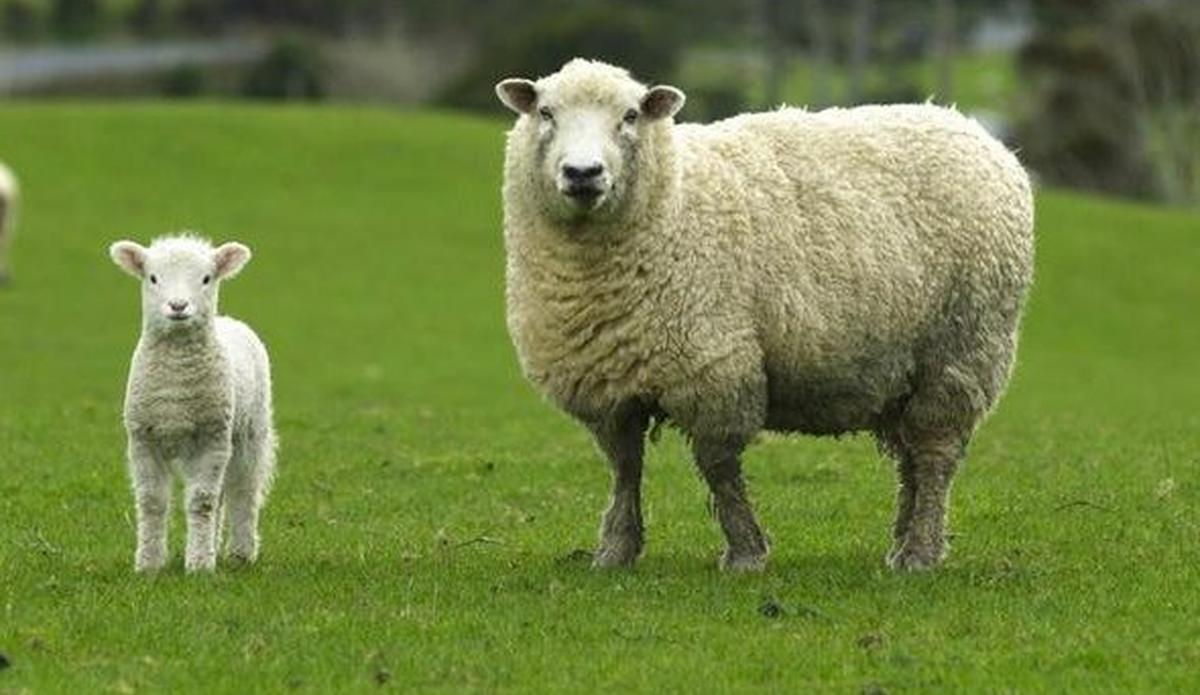koyun: (489, 60, 1047, 578), (109, 229, 299, 579)
